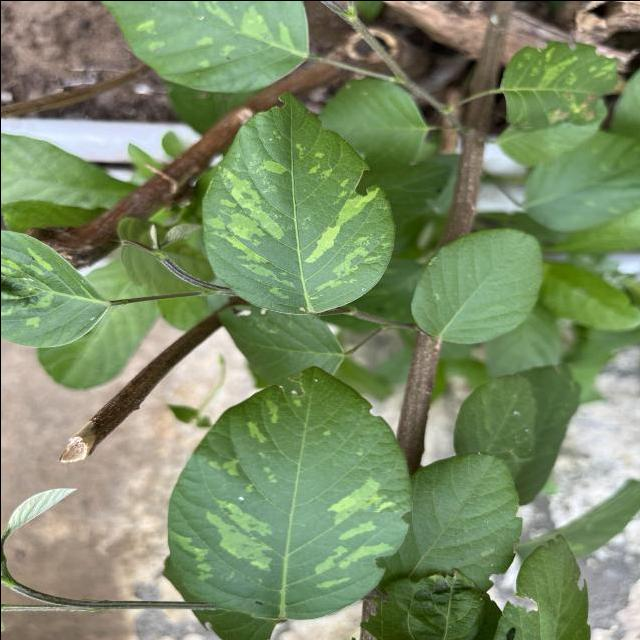Desmodium gangeticum: (163, 360, 416, 622), (196, 87, 398, 318)
